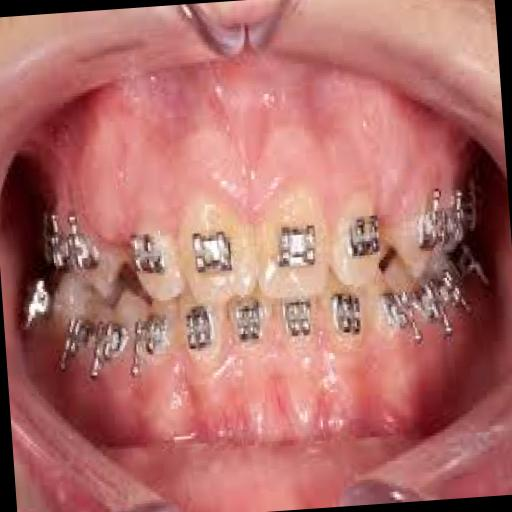correct_brace: (269, 208, 324, 282), (340, 204, 382, 268), (186, 222, 232, 278), (130, 230, 170, 286)
incorrect_brace: (327, 192, 387, 286), (128, 216, 183, 304)
